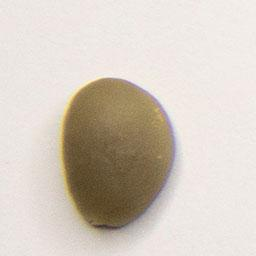premium: (58, 74, 179, 232)
